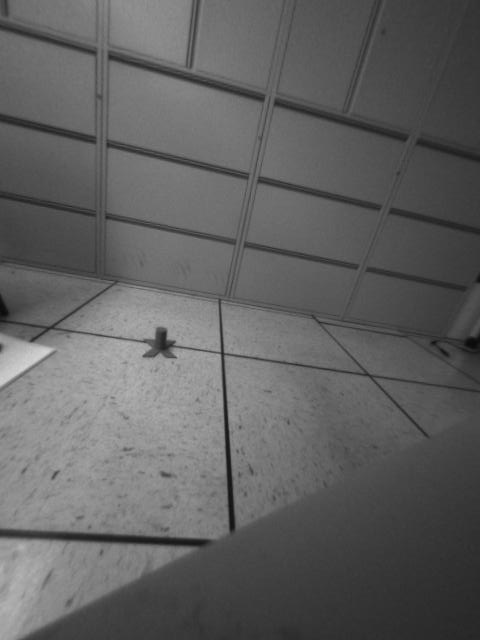X: (139, 323, 178, 364)
